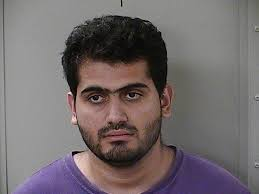middle_eastern_male: (71, 47, 160, 157)
